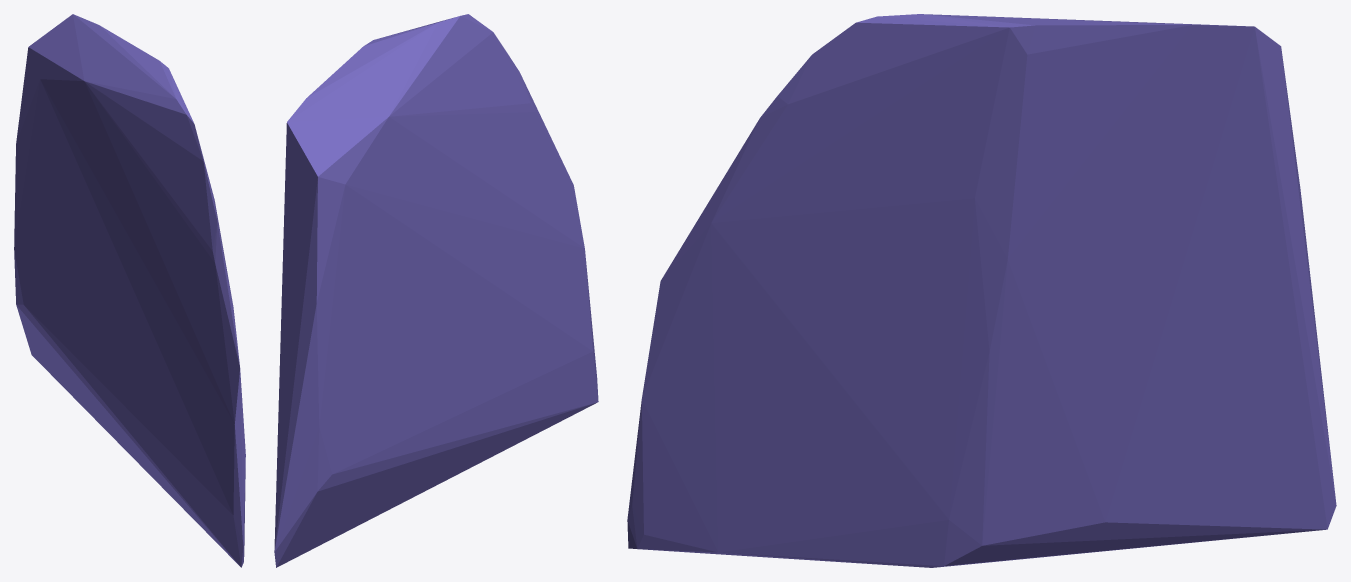
Rendered from bodyPart_door_front_a01.glb.
3 renders of one model, left to right at view 1: azimuth 30°, elevation 25°; view 2: azimuth 150°, elevation 25°; view 3: azimuth 270°, elevation 25°, orthographic. The views are drawn at different scales.
Visible parts, largest first — view 1: geometry_0; view 2: geometry_0; view 3: geometry_0.
Part boxes in pixels (x1,y1,x2,y2): geometry_0: (14, 14, 245, 567); geometry_0: (274, 14, 598, 567); geometry_0: (627, 14, 1336, 567).
Size of the model in its own units: 0.0726 by 0.4211 by 0.4794.
